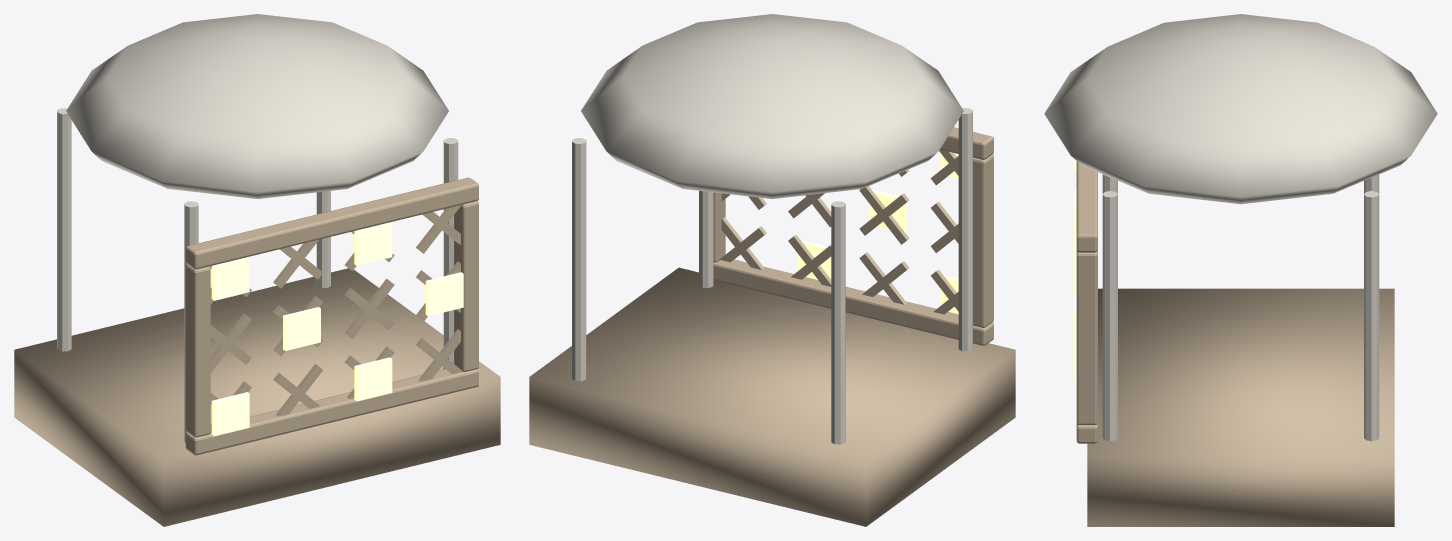
File: gaddi-ghat.glb
3 renders of one model, left to right at view 1: azimuth 30°, elevation 25°; view 2: azimuth 150°, elevation 25°; view 3: azimuth 270°, elevation 25°, orthographic. The views are drawn at different scales.
Parts seen in each view (by area): view 1: GaddiSeat, ChhatriCanopy, JharokhaFrame, JharokhaLattice; view 2: GaddiSeat, ChhatriCanopy, JharokhaFrame, JharokhaLattice; view 3: GaddiSeat, ChhatriCanopy, JharokhaFrame, JharokhaLattice.
Boxes of the visible parts, x1,y1,x2,y2 form: GaddiSeat: [14, 268, 500, 526]; ChhatriCanopy: [57, 14, 458, 443]; JharokhaFrame: [185, 177, 478, 455]; JharokhaLattice: [210, 205, 463, 436]; GaddiSeat: [529, 267, 1015, 526]; ChhatriCanopy: [572, 14, 972, 444]; JharokhaFrame: [713, 127, 993, 345]; JharokhaLattice: [720, 149, 958, 314]; GaddiSeat: [1087, 288, 1394, 526]; ChhatriCanopy: [1044, 14, 1437, 441]; JharokhaFrame: [1076, 161, 1097, 443]; JharokhaLattice: [1074, 159, 1076, 382].
Bounding box in the file's own units: 2.6 × 2.85 × 2.56.
